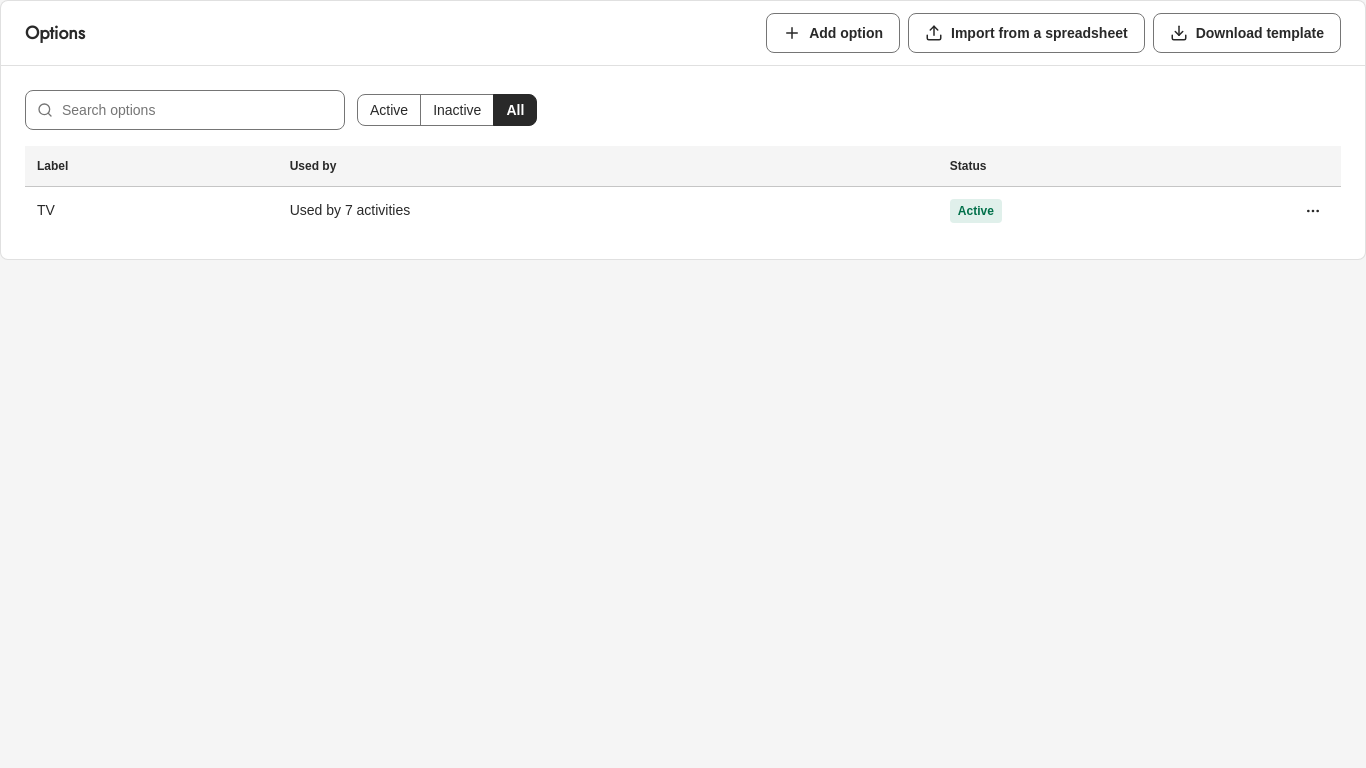
OptionsCard: options from a spreadsheet (FR-031) › opens the import of the attribute
Click the button "Import from a spreadsheet": point(1026, 33) 908,13 -> 1145,53
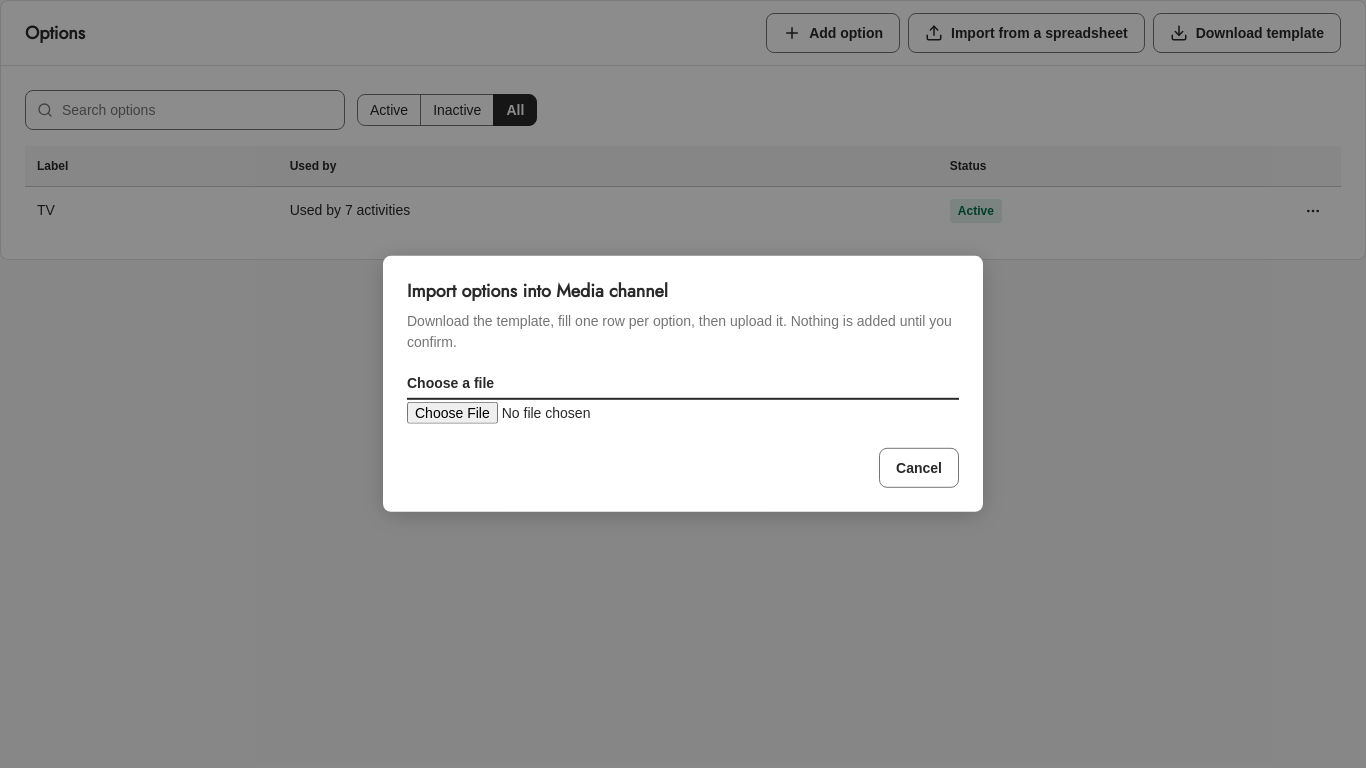
Check: the dialog "Import options into Media channel" is shown, box 383,256 -> 983,512
